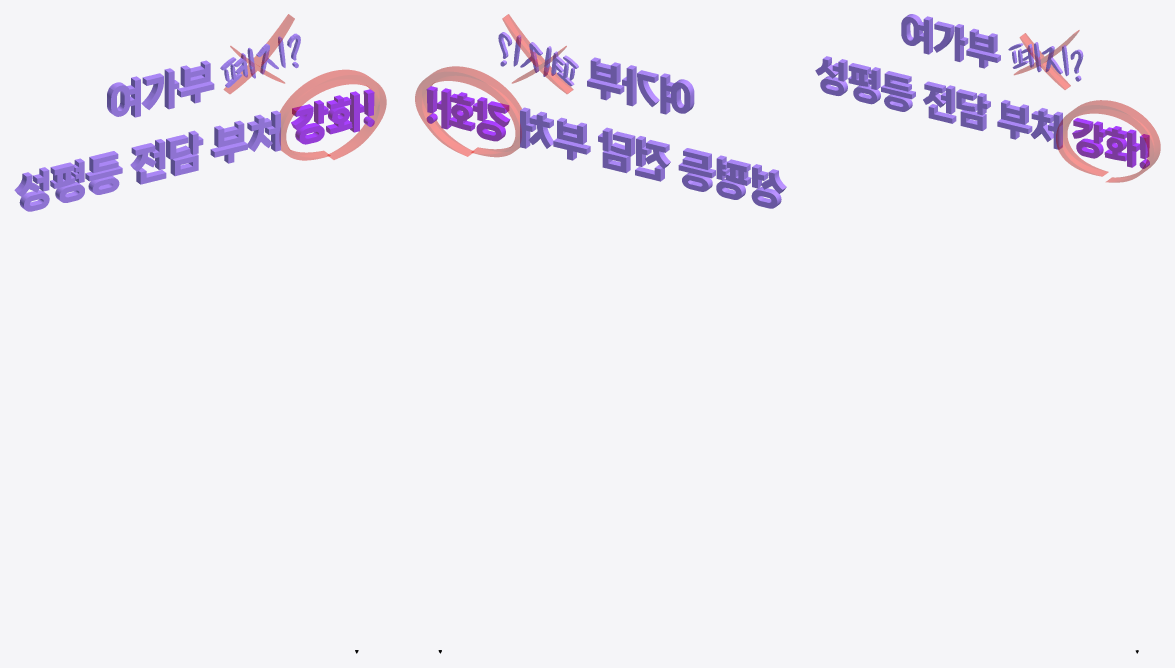
Rendered from yeo1.glb.
3 renders of one model, left to right at view 1: azimuth 30°, elevation 25°; view 2: azimuth 150°, elevation 25°; view 3: azimuth 330°, elevation 25°, orthographic. The views are drawn at different scales.
Visible parts, largest first — view 1: Body44, Body23, Body42, Body25, Body33, Body19, Body22; view 2: Body44, Body42, Body23, Body25, Body33, Body19, Body22; view 3: Body44, Body23, Body42, Body25, Body33, Body19.
Boxes of the visible parts, bbox=[...] form: Body44: bbox=[279, 70, 386, 160]; Body23: bbox=[107, 76, 140, 117]; Body42: bbox=[224, 14, 294, 93]; Body25: bbox=[180, 60, 210, 87]; Body33: bbox=[214, 120, 244, 147]; Body19: bbox=[247, 114, 272, 151]; Body22: bbox=[326, 106, 352, 134]; Body44: bbox=[415, 66, 521, 156]; Body42: bbox=[502, 14, 573, 93]; Body23: bbox=[660, 73, 694, 114]; Body25: bbox=[590, 57, 620, 84]; Body33: bbox=[557, 117, 586, 144]; Body19: bbox=[528, 111, 553, 148]; Body22: bbox=[448, 103, 475, 131]; Body44: bbox=[1056, 100, 1160, 182]; Body23: bbox=[901, 14, 932, 54]; Body42: bbox=[1014, 30, 1079, 89]; Body25: bbox=[969, 28, 997, 53]; Body33: bbox=[1001, 100, 1028, 124]; Body19: bbox=[1030, 108, 1053, 141].
Size of the model in its own units: 1.17 by 1.99 by 0.0485.
